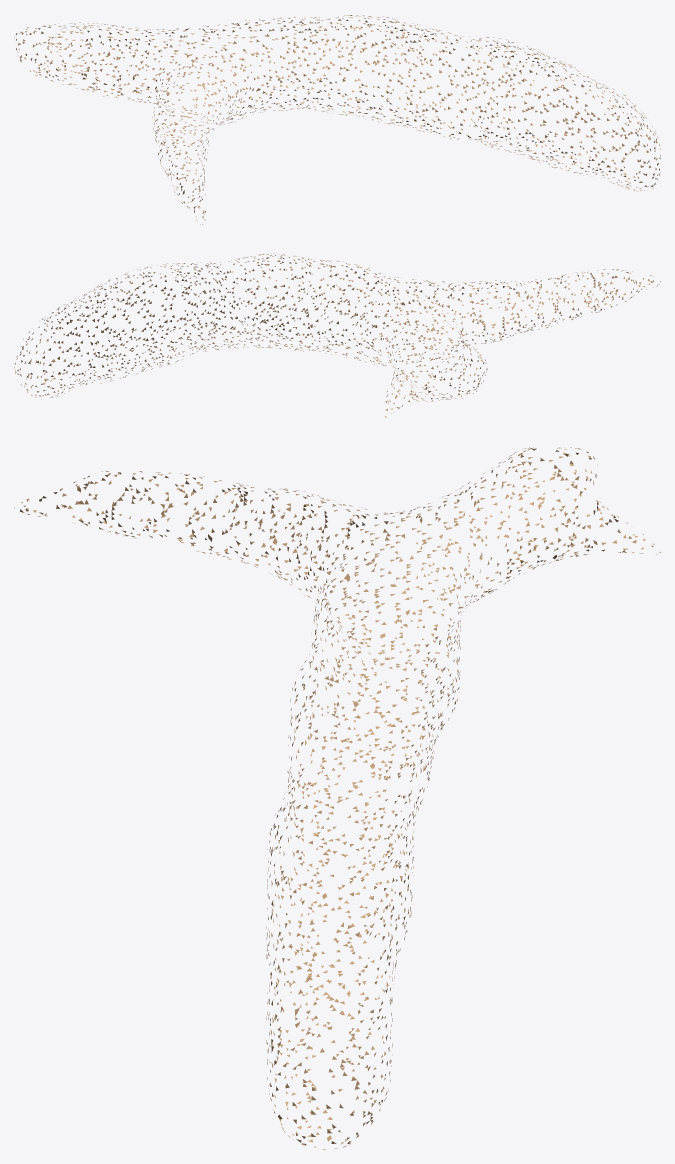
The model's file is morph_006.glb.
3 views of the same model, one above another, from view 1: azimuth 30°, elevation 25°; view 2: azimuth 150°, elevation 25°; view 3: azimuth 270°, elevation 25° (orthographic). The views are drawn at different scales.
Size of the model in its own units: 134 by 52.02 by 91.73.
